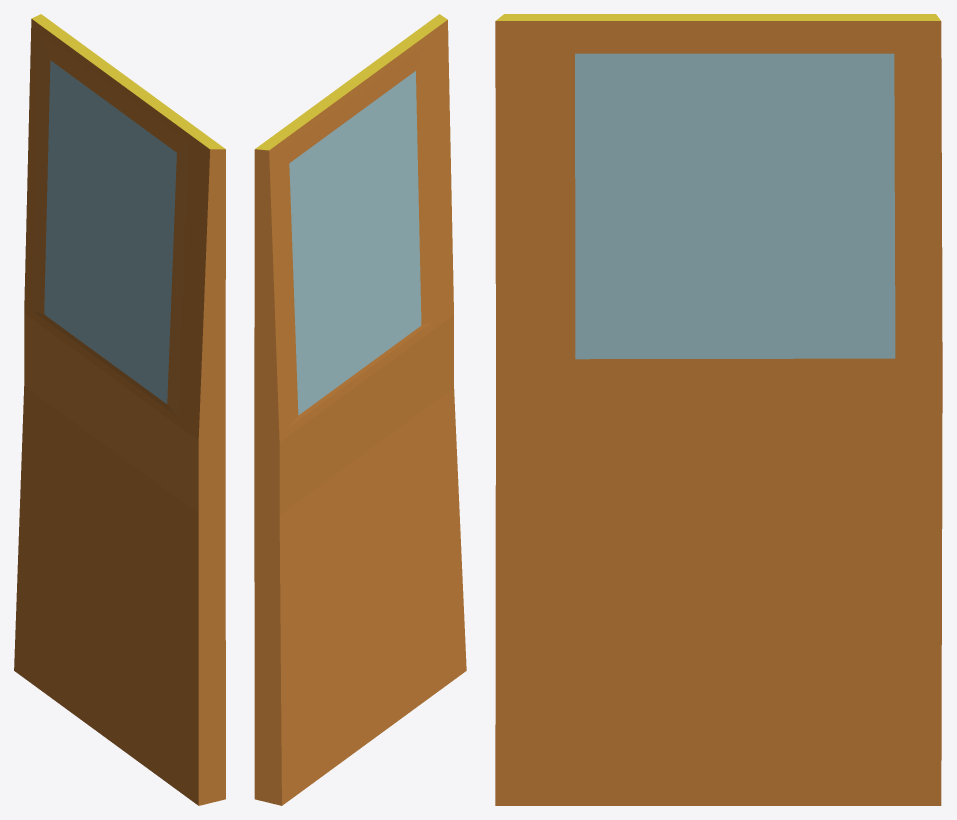
Rendered from bus_right_window_ two.fbx.
3 renders of one model, left to right at view 1: azimuth 30°, elevation 25°; view 2: azimuth 150°, elevation 25°; view 3: azimuth 270°, elevation 25°, orthographic. The views are drawn at different scales.
Visible parts, largest first — view 1: Cube.053; view 2: Cube.053; view 3: Cube.053.
Part boxes in pixels (x1,y1,x2,y2): Cube.053: (14, 14, 225, 805); Cube.053: (254, 14, 466, 805); Cube.053: (495, 14, 942, 805).
Bounding box in the file's own units: 6.82 × 156 × 80.53.
